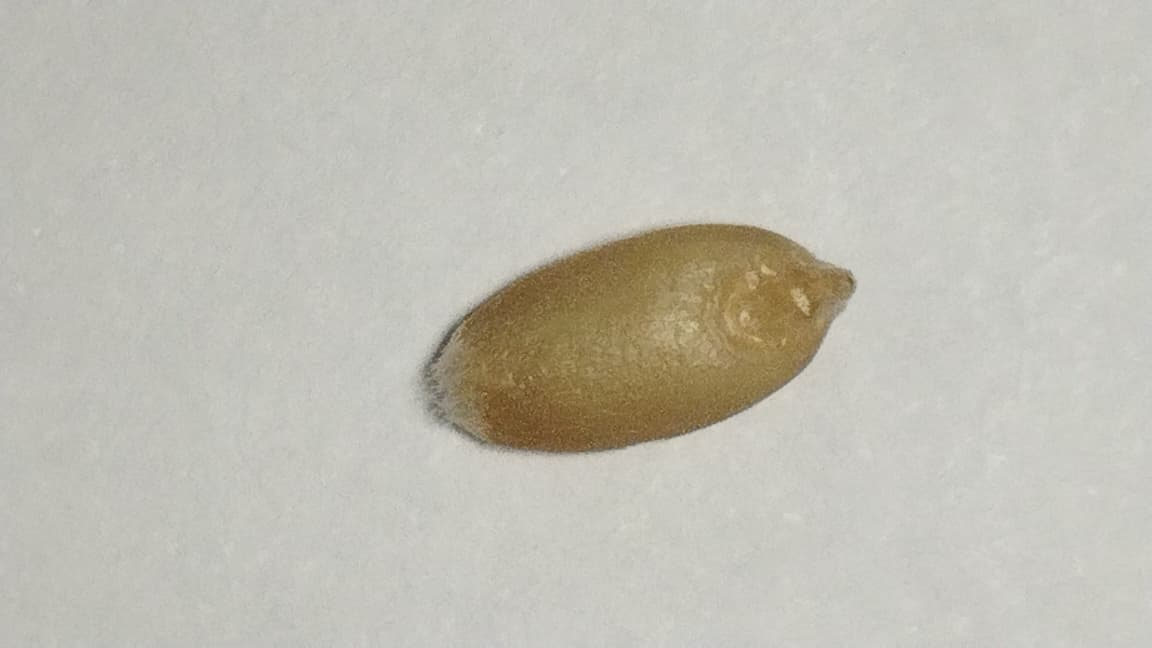healthy: (426, 224, 854, 451)
